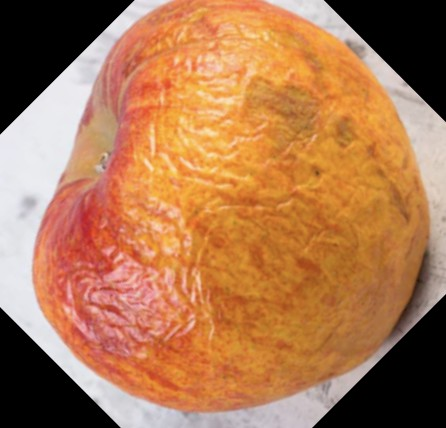rotten_apple: (32, 1, 431, 412)
